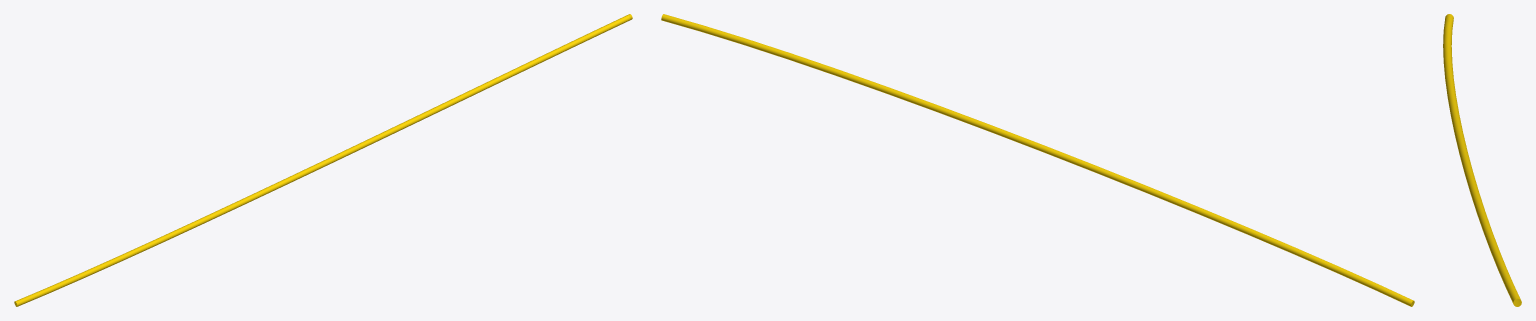
Rendered from Event_420094457_track_43.fbx.
3 views of the same model, side by side, from view 1: azimuth 30°, elevation 25°; view 2: azimuth 150°, elevation 25°; view 3: azimuth 270°, elevation 25° (orthographic). The views are drawn at different scales.
Visible parts, largest first — view 1: Model; view 2: Model; view 3: Model.
Part boxes in pixels (x1=…): Model: x1=14, y1=14, x2=632, y2=306; Model: x1=661, y1=14, x2=1414, y2=306; Model: x1=1443, y1=14, x2=1521, y2=306.
Bounding box in the file's own units: 4.91 × 0.8784 × 0.3626.
